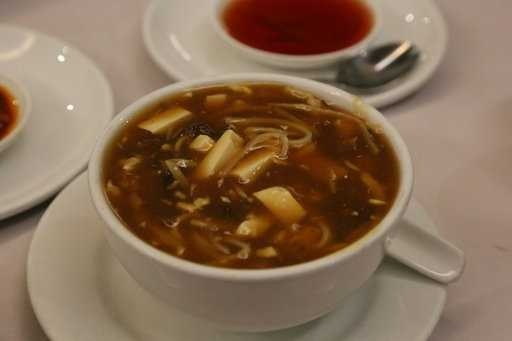soup: (103, 97, 389, 252)
